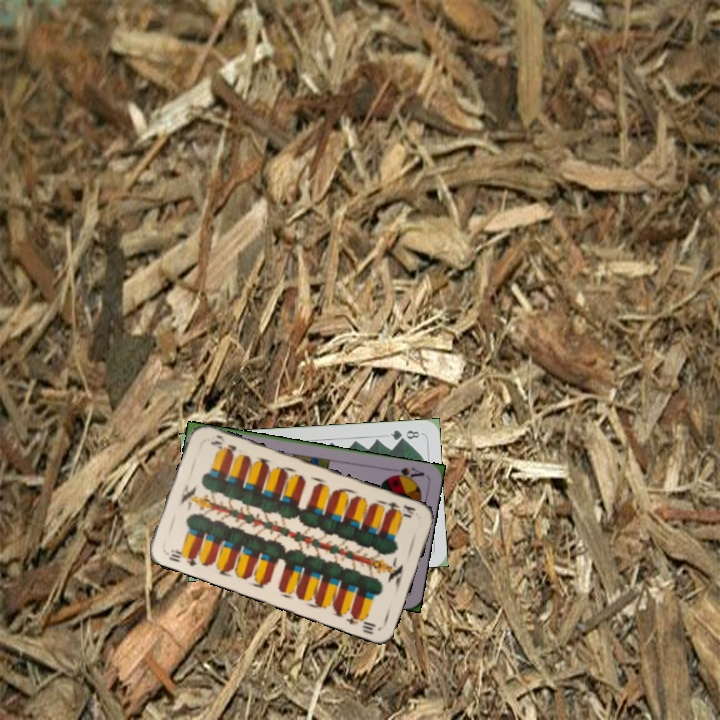E10: (379, 498, 418, 521), (165, 545, 199, 569)
G8: (387, 426, 424, 443)
SA: (385, 463, 427, 484)
